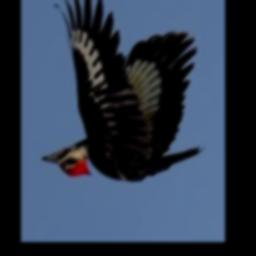Woodpecker: (42, 0, 207, 183)
